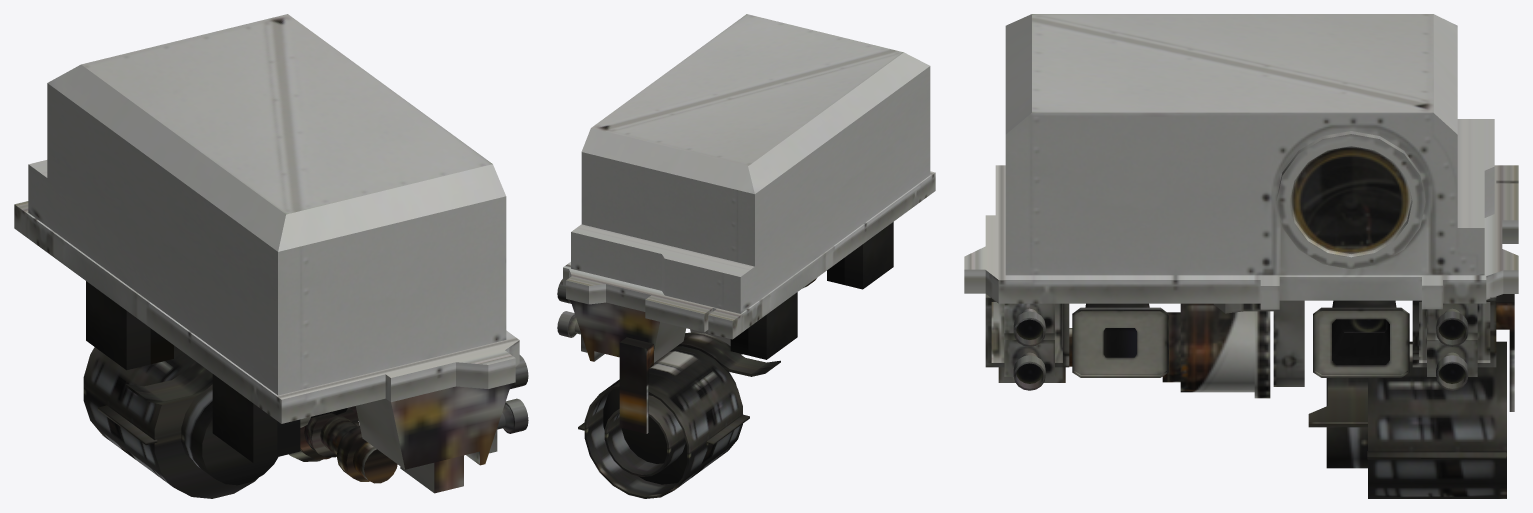
Rendered from mast_head_link.dae.
The picture shows the model from 3 angles, left to right: view 1: azimuth 30°, elevation 25°; view 2: azimuth 150°, elevation 25°; view 3: azimuth 270°, elevation 25°; orthographic projection. The views are drawn at different scales.
Visible parts, largest first — view 1: mast_head_link; view 2: mast_head_link; view 3: mast_head_link.
Part boxes in pixels (x1,y1,x2,y2): mast_head_link: (14,14,528,498); mast_head_link: (557,14,935,498); mast_head_link: (964,14,1518,498).
Size of the model in its own units: 0.2875 by 0.55 by 0.4652.
1 material, 1 textured.
